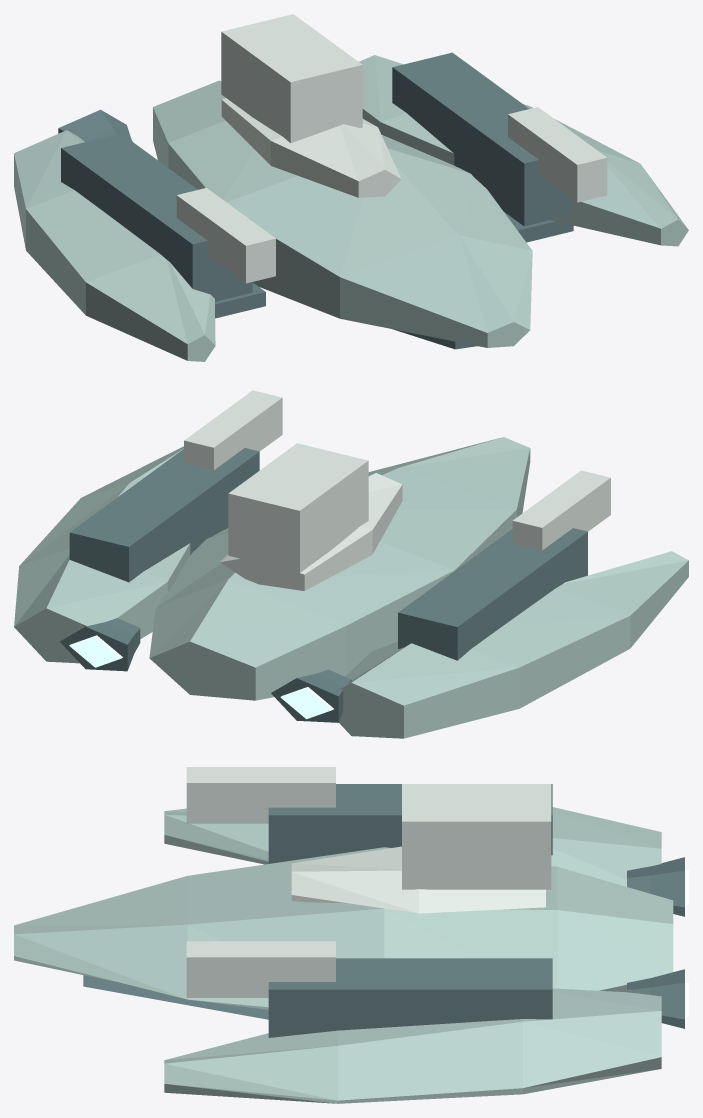
3 renders of one model, top to bottom at view 1: azimuth 30°, elevation 25°; view 2: azimuth 150°, elevation 25°; view 3: azimuth 270°, elevation 25°, orthographic. The views are drawn at different scales.
Size of the model in its own units: 18.47 by 5.87 by 18.07.
